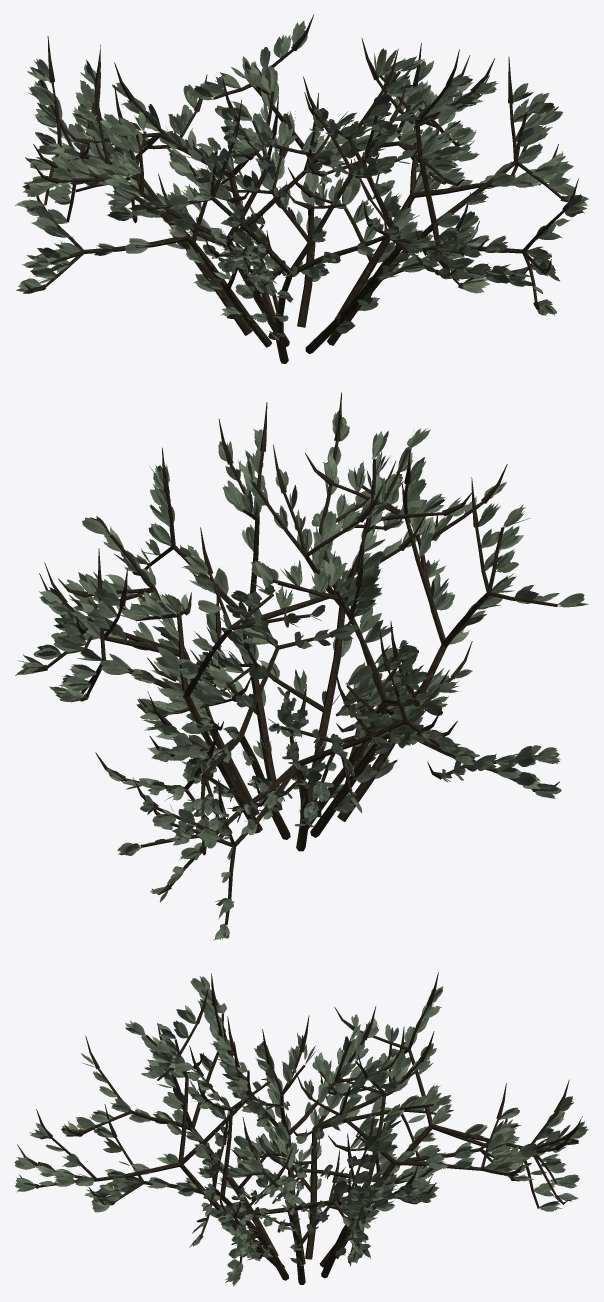
The model's file is thorn_scrub_v01.fbx.
The picture shows the model from 3 angles, top to bottom: view 1: azimuth 30°, elevation 25°; view 2: azimuth 150°, elevation 25°; view 3: azimuth 270°, elevation 25°; orthographic projection. The views are drawn at different scales.
Visible parts, largest first — view 1: thorn_scrub_v01; view 2: thorn_scrub_v01; view 3: thorn_scrub_v01.
Part boxes in pixels (x1,y1,x2,y2): thorn_scrub_v01: (15,14,588,363); thorn_scrub_v01: (15,392,588,940); thorn_scrub_v01: (14,972,588,1286).
Bounding box in the file's own units: 221 × 133 × 266.
2 materials, 2 textured.
